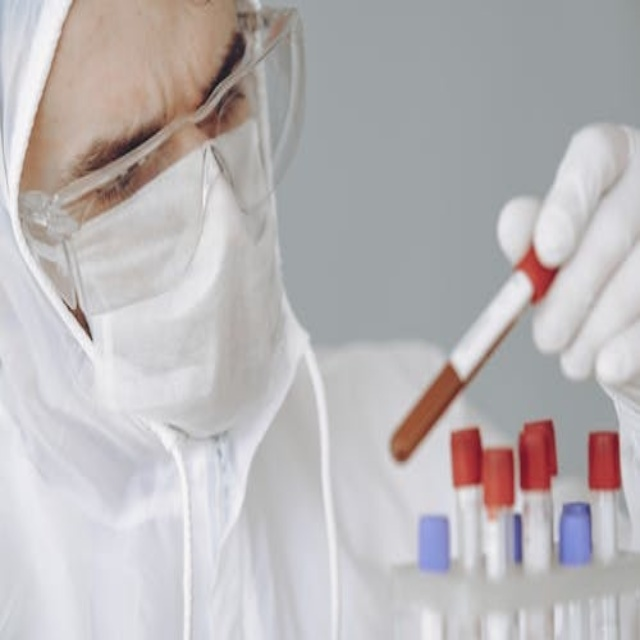Gafas: (14, 4, 300, 256)
Guantes: (499, 121, 639, 415)
Mascara: (13, 4, 302, 444)
